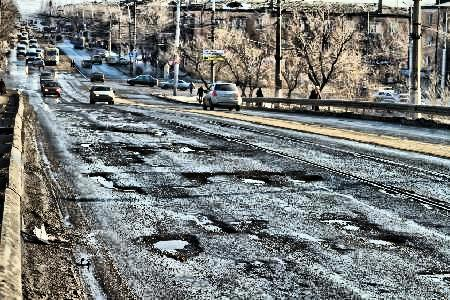pothole: (319, 215, 407, 245), (140, 232, 202, 261), (86, 171, 146, 195), (200, 218, 237, 235), (174, 141, 212, 155), (180, 170, 211, 184), (230, 168, 283, 176), (235, 174, 271, 184), (122, 144, 151, 156), (300, 172, 322, 182), (78, 140, 94, 147), (153, 129, 167, 136)
